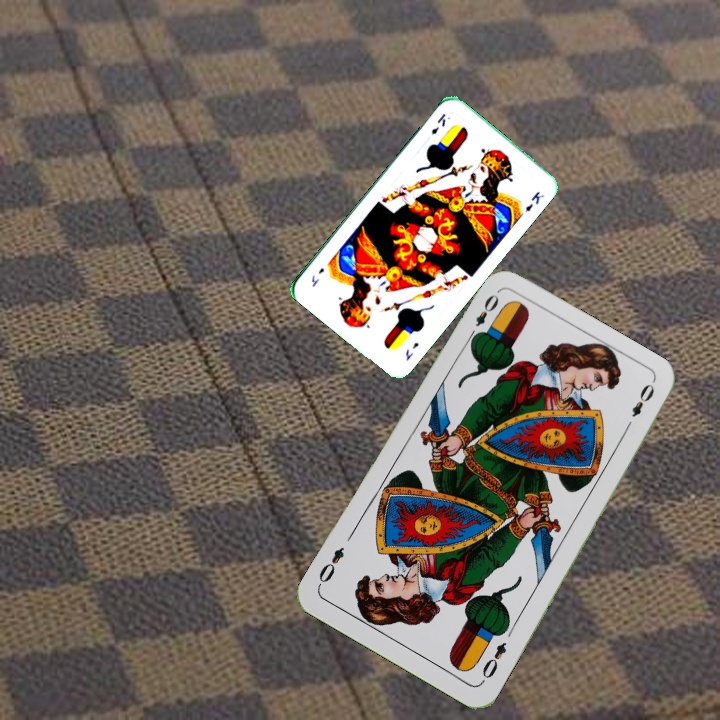EK: (427, 110, 448, 137), (401, 338, 421, 363)
EO: (464, 289, 502, 344), (477, 638, 509, 681)
